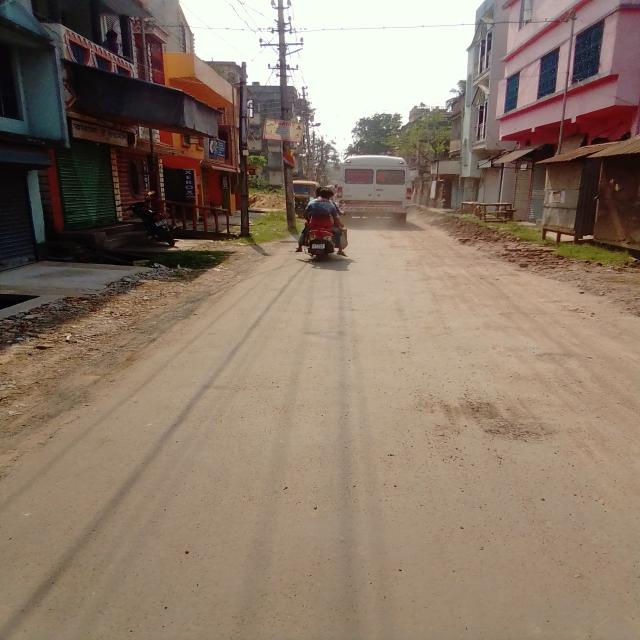Bus: (336, 150, 409, 211)
